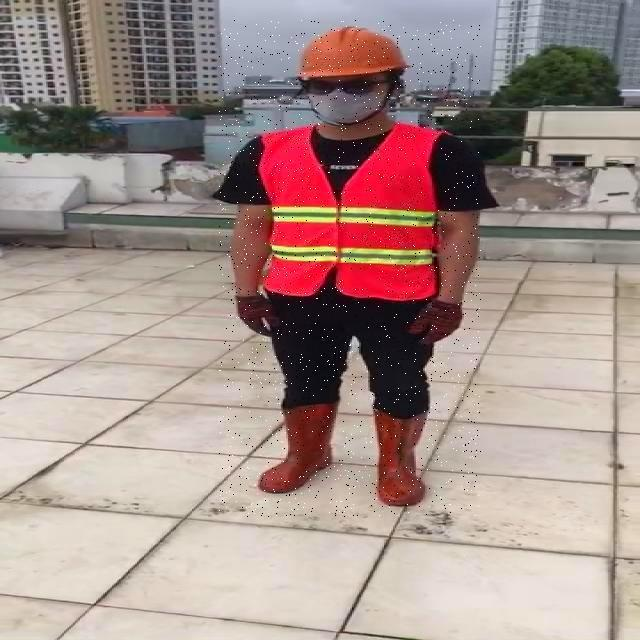Boots: (260, 401, 338, 495), (368, 408, 430, 506)
Helmet: (290, 22, 415, 83)
Person: (219, 20, 481, 517)
Vest: (262, 126, 438, 301)
